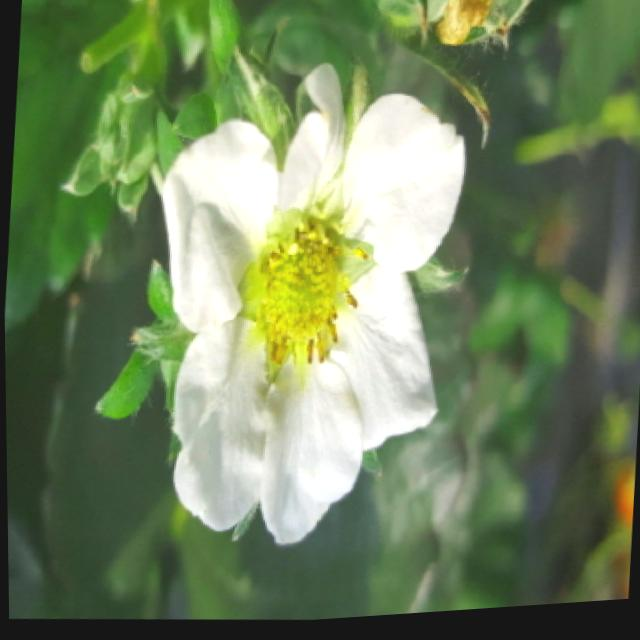Blossom Blight: (228, 196, 379, 387)
